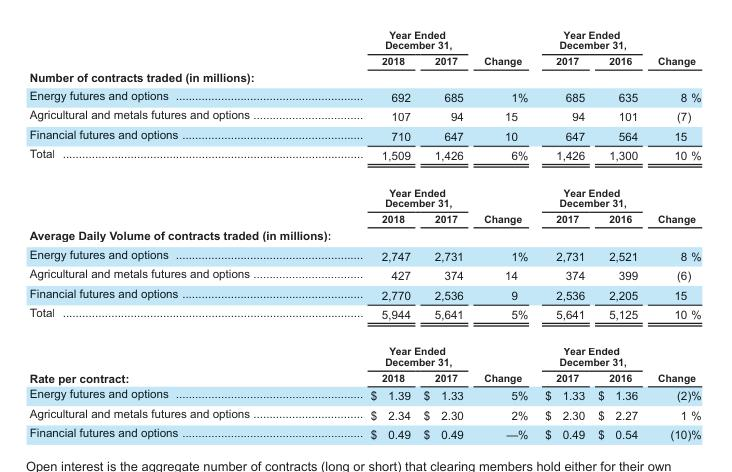table: (28, 28, 700, 440)
table column: (28, 28, 309, 440), (309, 28, 416, 440), (473, 28, 535, 440), (416, 28, 473, 440), (590, 28, 647, 440), (535, 28, 590, 440), (647, 28, 700, 440)
table column header: (28, 28, 700, 68)
table projected row header: (28, 226, 700, 244), (28, 68, 700, 85)
table row: (28, 173, 700, 210), (28, 332, 700, 369), (28, 144, 700, 173), (28, 303, 700, 332), (28, 28, 700, 52), (28, 85, 700, 105), (28, 105, 700, 125), (28, 244, 700, 264), (28, 283, 700, 303), (28, 125, 700, 144), (28, 264, 700, 283), (28, 385, 700, 404), (28, 404, 700, 423), (28, 226, 700, 244), (28, 68, 700, 85), (28, 423, 700, 440), (28, 52, 700, 68), (28, 210, 700, 226), (28, 369, 700, 385)
table spanning cell: (309, 173, 473, 210), (309, 332, 473, 369), (535, 173, 647, 210), (535, 332, 647, 369), (309, 28, 473, 52), (535, 28, 647, 52), (473, 28, 535, 68), (647, 28, 700, 68)
